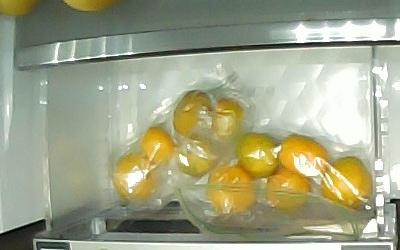tangerine_vinyl: (318, 154, 373, 211), (205, 164, 258, 216), (274, 131, 330, 178), (110, 152, 159, 203), (233, 130, 283, 178), (171, 88, 213, 140), (264, 165, 310, 211), (174, 132, 221, 177), (206, 96, 244, 145), (138, 124, 175, 168)
